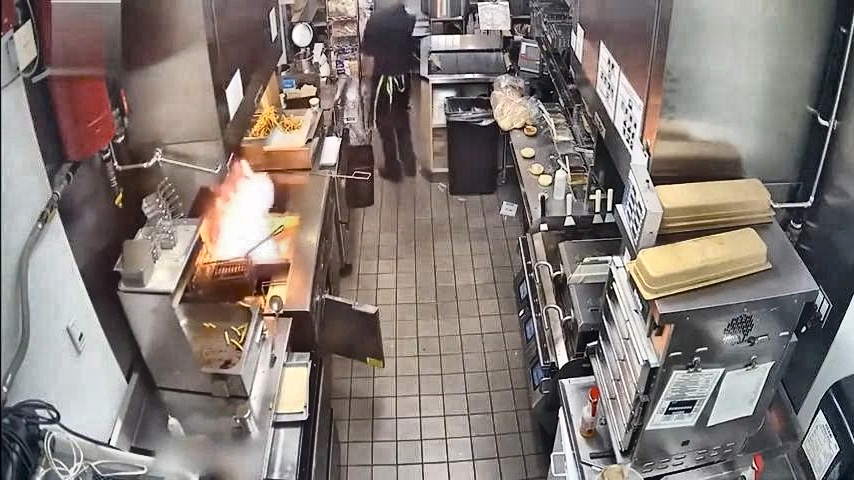fire: (191, 149, 304, 301)
